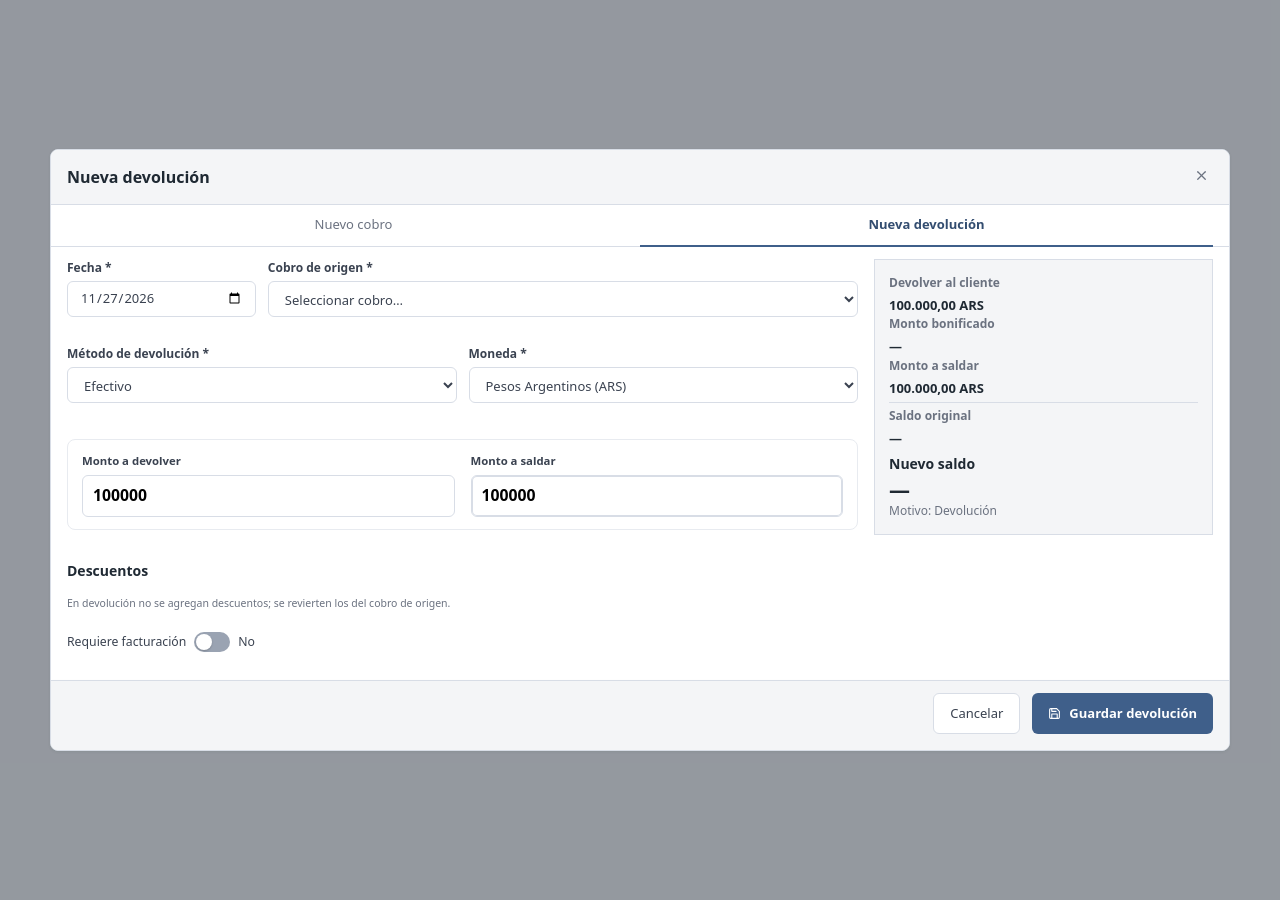
CobroForm facturación › initialMode devolucion + initialMontoASaldar precarga monto a saldar
The image size is (1280, 900).
Expected: the number field with test id "payment-monto-saldar" holds "100000", [470,475,843,517]
Expected: the number field with test id "payment-monto-ingresado" holds "100000", [82,475,454,517]
Select "A010 — Efectivo — 90.000,00 ARS · desc. 10.000,00 ARS" in the dropdown labelled "Cobro de origen *" at (563, 299), box [268,281,858,317]
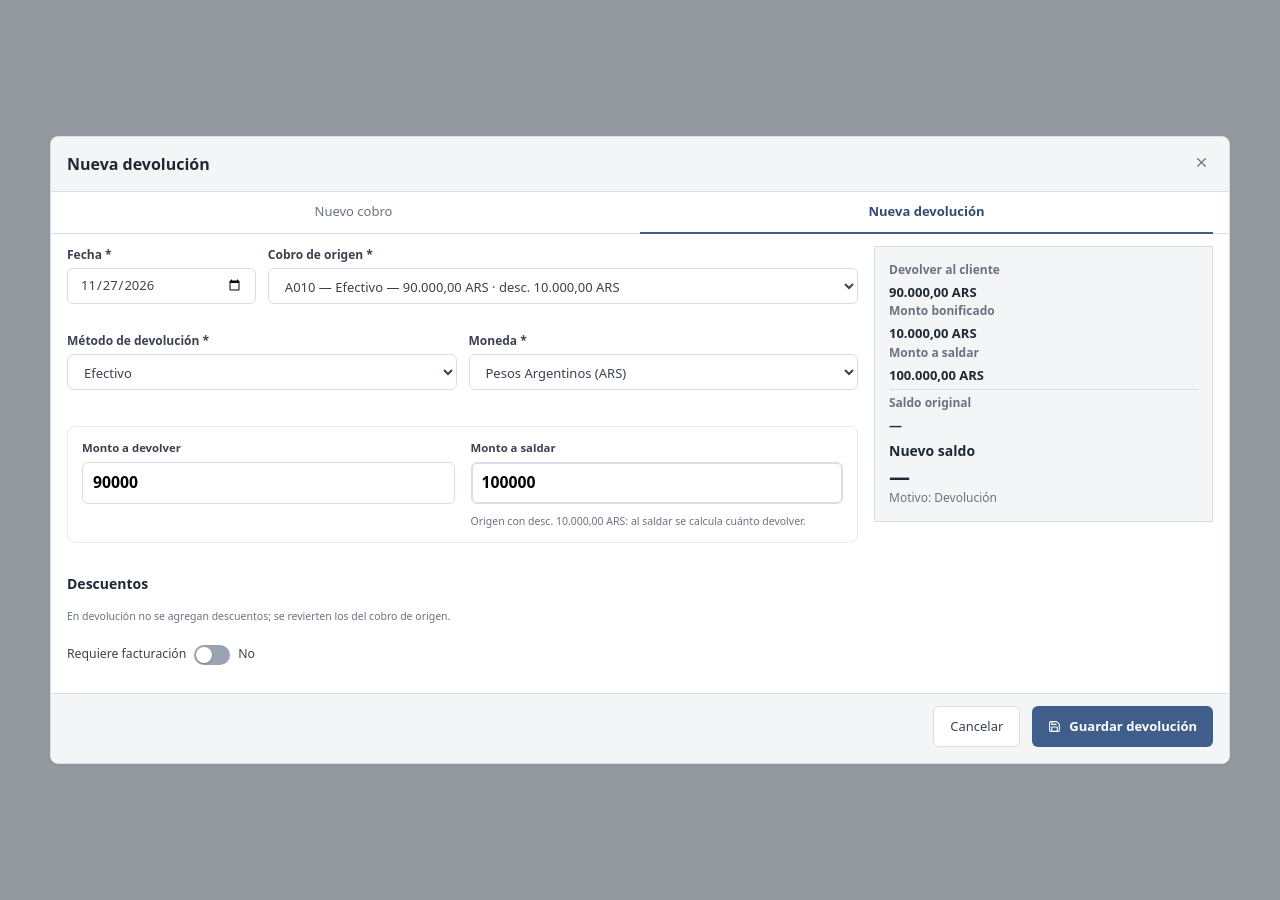
Expected: the number field with test id "payment-monto-ingresado" holds "90000", [82,462,454,504]
